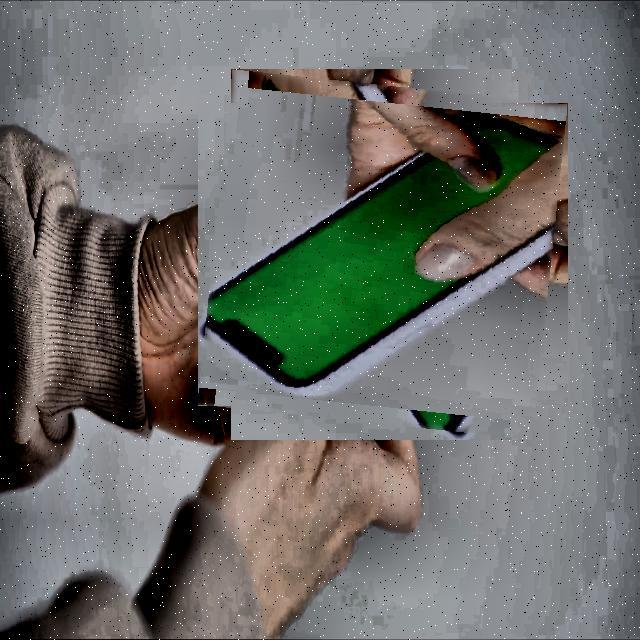Phone: (206, 78, 560, 432)
